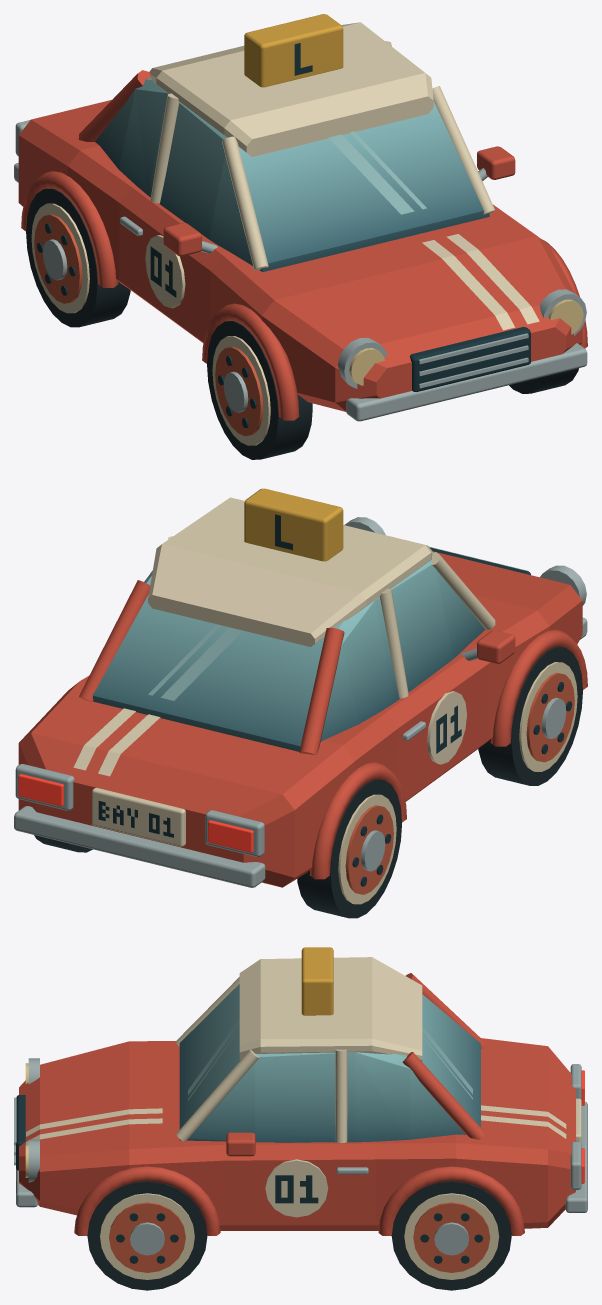
File: bay-coupe.glb
3 renders of one model, top to bottom at view 1: azimuth 30°, elevation 25°; view 2: azimuth 150°, elevation 25°; view 3: azimuth 270°, elevation 25°, orthographic. The views are drawn at different scales.
Parts seen in each view (by area): view 1: body, glazing, wheel-front-right, wheel-back-right, wheel-front-left; view 2: body, glazing, wheel-back-right, wheel-front-right, brake-lights; view 3: body, glazing, wheel-front-left, wheel-back-left.
Boxes of the visible parts, <box> form: body: <box>14,14,587,421</box>; glazing: <box>95,78,489,272</box>; wheel-front-right: <box>207,321,312,459</box>; wheel-back-right: <box>26,188,130,327</box>; wheel-front-left: <box>509,368,578,393</box>; body: <box>14,488,587,887</box>; glazing: <box>93,560,485,751</box>; wheel-back-right: <box>297,779,401,918</box>; wheel-front-right: <box>478,647,582,785</box>; brake-lights: <box>18,774,253,852</box>; body: <box>14,947,587,1235</box>; glazing: <box>179,984,480,1142</box>; wheel-front-left: <box>87,1181,207,1290</box>; wheel-back-left: <box>391,1181,511,1290</box>.
Size of the model in its own units: 2.35 by 2.1 by 4.11.
